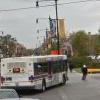Bus: (0, 49, 71, 90)
